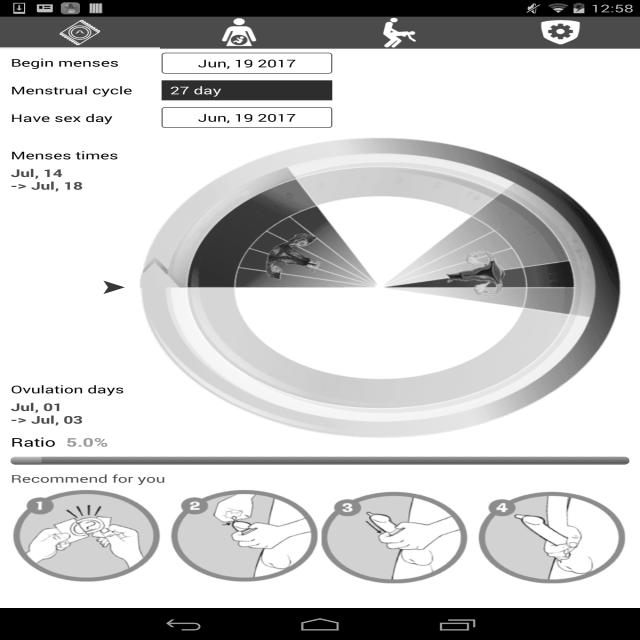ImageView: (125, 128, 634, 447), (11, 489, 629, 584), (54, 16, 106, 48), (214, 16, 266, 48), (374, 16, 426, 48), (534, 16, 586, 48), (103, 281, 125, 294)
ProgressBar: (11, 456, 629, 464)
Spinner: (162, 80, 332, 100)
TextView: (162, 52, 332, 74), (162, 107, 332, 128), (162, 83, 332, 97), (11, 471, 165, 486), (11, 165, 82, 192), (11, 399, 82, 426), (11, 83, 132, 97), (11, 55, 119, 70), (11, 382, 124, 396), (11, 148, 118, 162), (11, 111, 113, 125), (10, 434, 56, 450), (66, 434, 108, 450)
